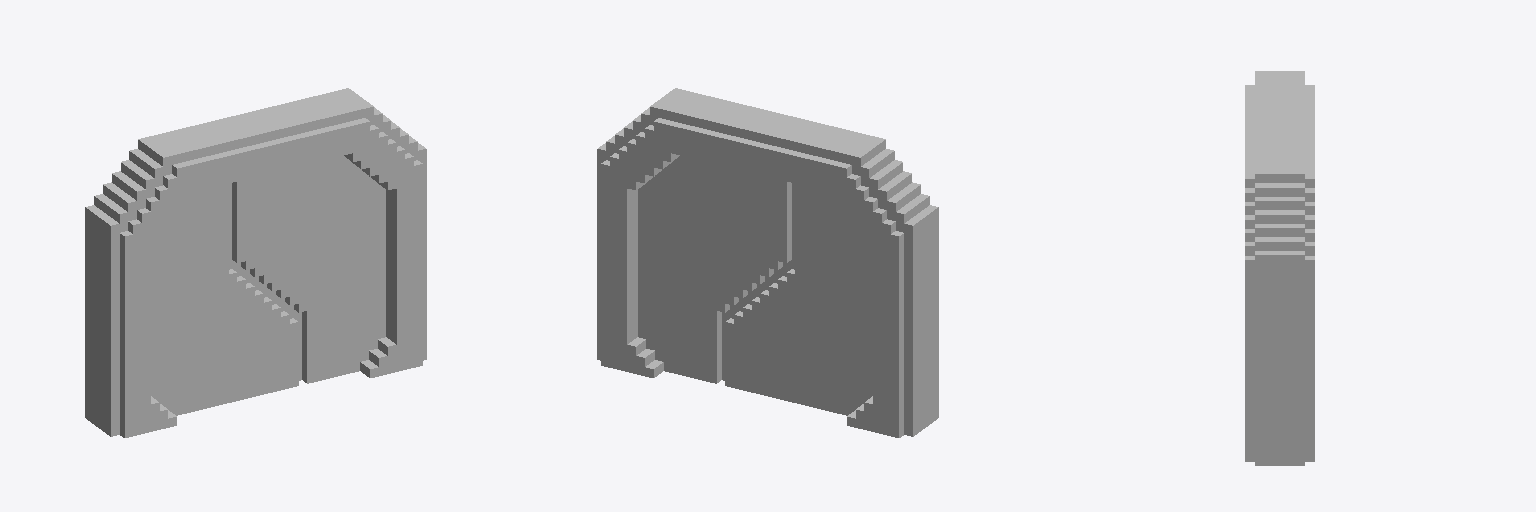
File: breakable door.obj
3 views of the same model, side by side, from view 1: azimuth 30°, elevation 25°; view 2: azimuth 150°, elevation 25°; view 3: azimuth 270°, elevation 25° (orthographic).
Visible parts, largest first — view 1: breakable door; view 2: breakable door; view 3: breakable door.
Part boxes in pixels (x1,y1,x2,y2): breakable door: (85, 88, 426, 437); breakable door: (597, 88, 938, 437); breakable door: (1245, 71, 1314, 465).
Size of the model in its own units: 36 by 29 by 7.